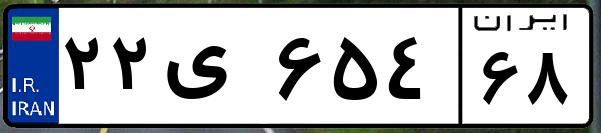2: (57, 26, 110, 100), (110, 28, 158, 98)
4: (385, 28, 445, 110)
5: (330, 28, 385, 110)
6: (270, 28, 330, 110), (475, 38, 525, 113)
8: (525, 38, 570, 115)
ی: (158, 20, 270, 120)
